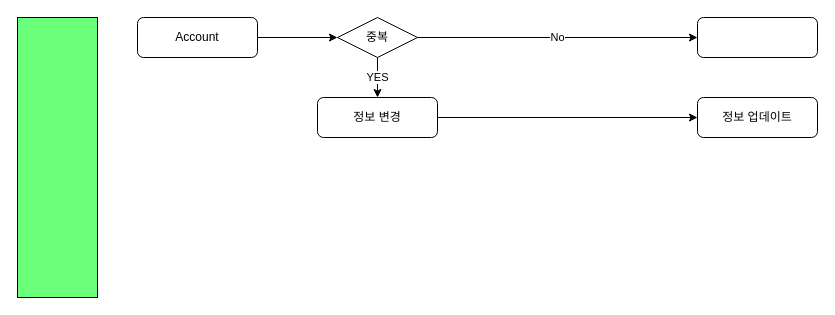
Some shapes in this 835 by 315 pixel diagram are drawn without their labels. Here are the shapes that lost their labels. From the top down, the centre of each, then its label:
point (757, 37): 신규 생성
point (57, 157): SF CRM
